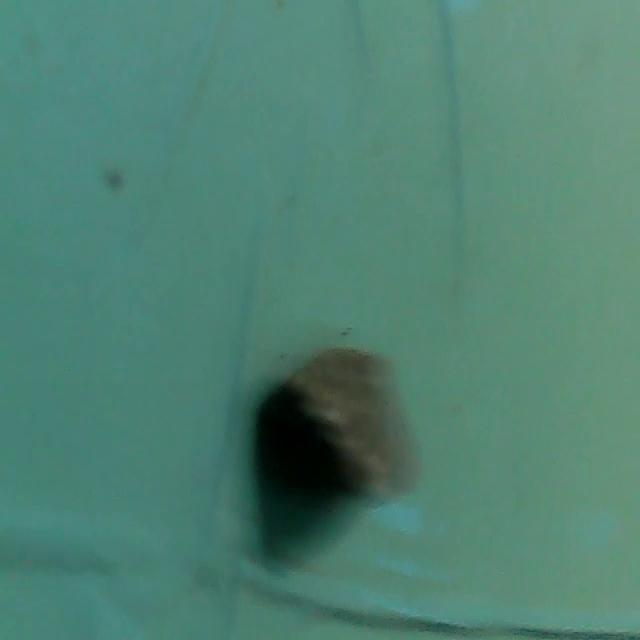rock: (242, 343, 434, 578)
